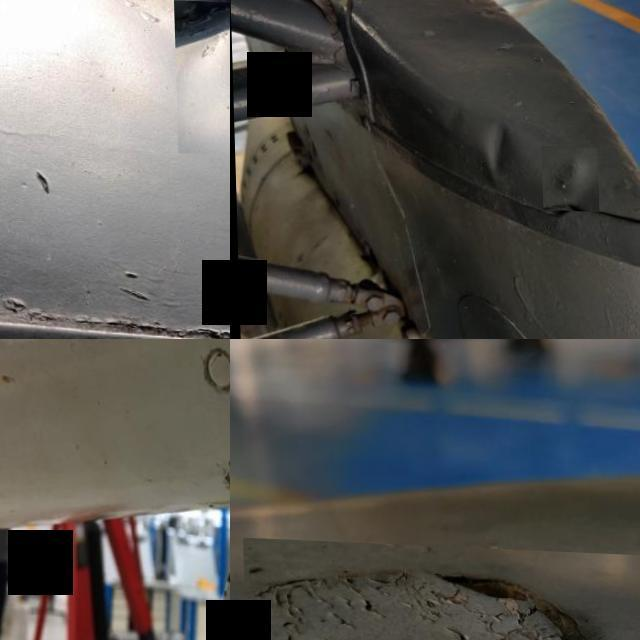Crack: (241, 535, 640, 640)
Dent: (172, 0, 230, 155), (466, 110, 520, 190), (540, 143, 597, 209)
